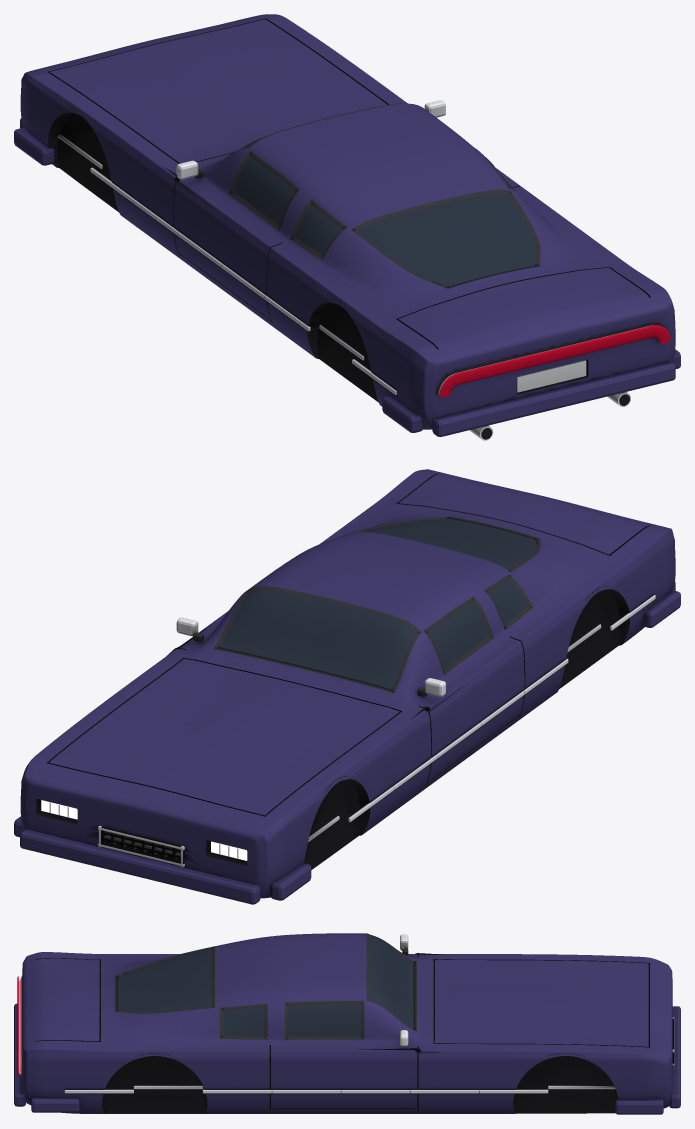
3 views of the same model, one above another, from view 1: azimuth 30°, elevation 25°; view 2: azimuth 150°, elevation 25°; view 3: azimuth 270°, elevation 25° (orthographic). The views are drawn at different scales.
Visible parts, largest first — view 1: body, glass_panes, part.027, tail_lens, part.030, part.025, part.028, tail_housing; view 2: body, glass_panes, part.024, part.025, part.028; view 3: body, glass_panes, part.024, part.026, part.029, part.027, part.050, part.038, part.040, part.052.
Part boxes in pixels (x1,y1,x2,y2): body: (20, 14, 675, 429); glass_panes: (234, 136, 536, 286); part.027: (432, 361, 675, 436); tail_lens: (439, 325, 670, 396); part.030: (516, 360, 586, 392); part.025: (14, 127, 54, 165); part.028: (382, 396, 423, 432); tail_housing: (436, 323, 665, 395); body: (20, 469, 675, 898); glass_panes: (219, 518, 535, 689); part.024: (20, 829, 260, 904); part.025: (270, 863, 311, 900); part.028: (641, 590, 680, 627); body: (22, 933, 672, 1113); glass_panes: (118, 935, 413, 1036); part.024: (669, 1006, 680, 1108); part.026: (615, 1099, 663, 1114); part.029: (31, 1097, 79, 1112); part.027: (14, 1003, 25, 1106); part.050: (133, 1085, 203, 1089); part.038: (548, 1085, 615, 1089); part.040: (479, 1089, 548, 1093); part.052: (64, 1089, 133, 1093).
Bounding box in the file's own units: 2.04 × 1.05 × 5.5.
